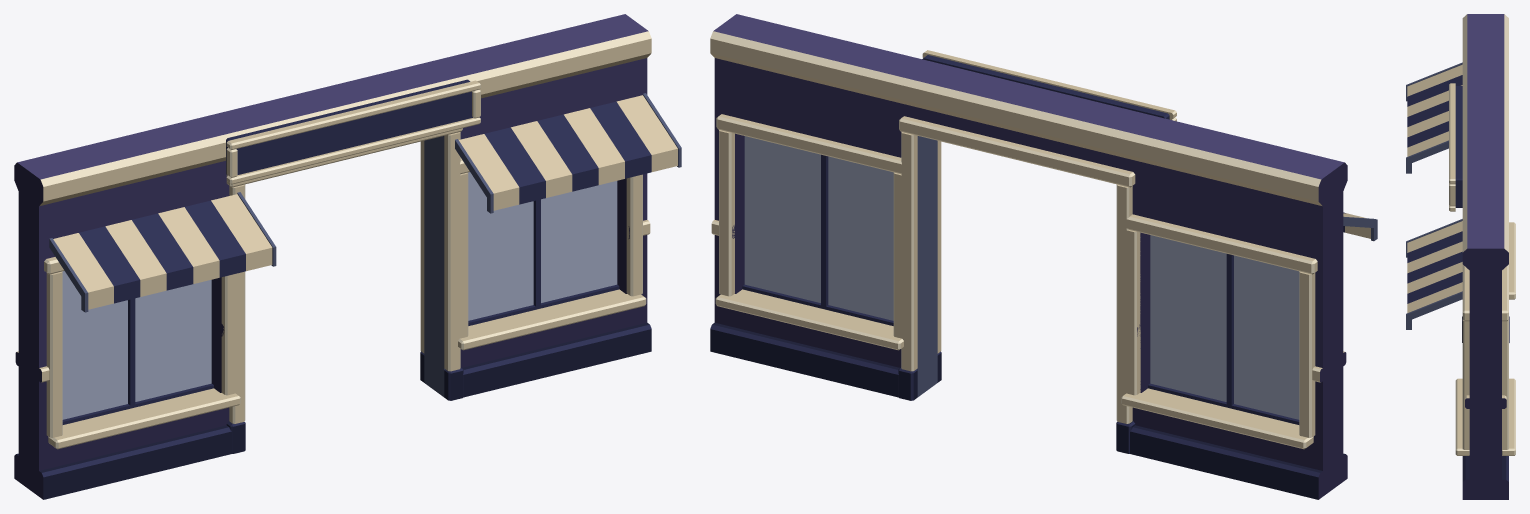
The model's file is Storefront_24x12.fbx.
3 views of the same model, side by side, from view 1: azimuth 30°, elevation 25°; view 2: azimuth 150°, elevation 25°; view 3: azimuth 270°, elevation 25° (orthographic). The views are drawn at different scales.
Parts seen in each view (by area): view 1: Storefront_24x12, Storefront_24x12_Glass; view 2: Storefront_24x12, Storefront_24x12_Glass; view 3: Storefront_24x12.
Boxes of the visible parts, <box> form: Storefront_24x12: <box>14,14,681,499</box>; Storefront_24x12_Glass: <box>62,172,617,419</box>; Storefront_24x12: <box>710,14,1377,499</box>; Storefront_24x12_Glass: <box>744,136,1299,419</box>; Storefront_24x12: <box>1406,14,1515,499</box>.
Bounding box in the file's own units: 24 × 12 × 4.75.
1 material, 1 textured.
